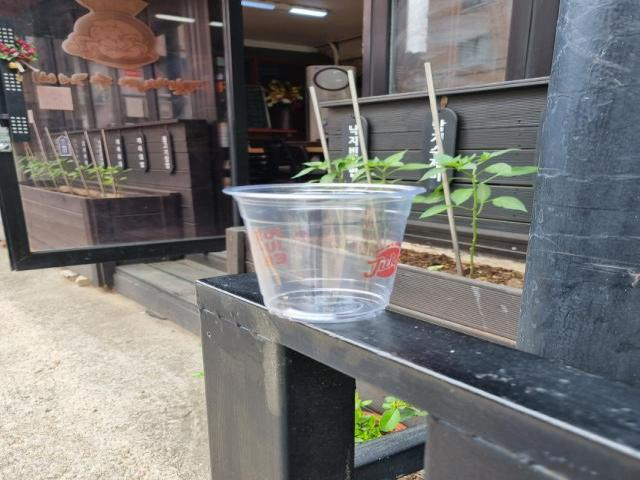cup: (214, 176, 440, 326)
